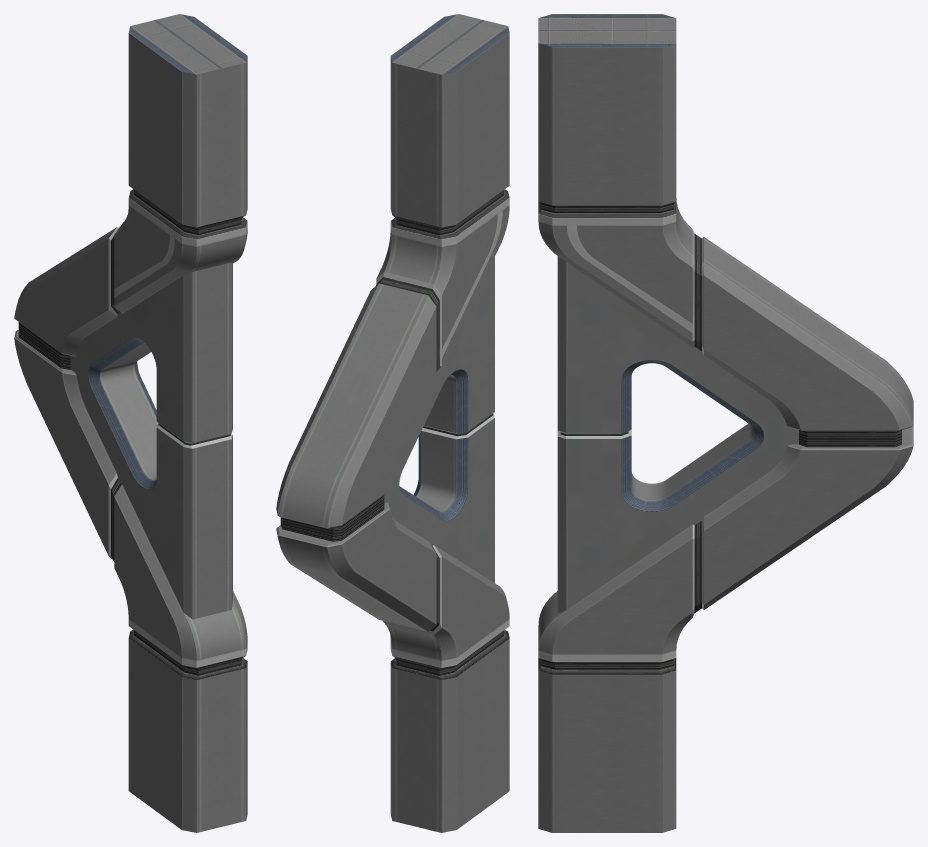
The model's file is Club_Pillar_01.FBX.
The picture shows the model from 3 angles, left to right: view 1: azimuth 30°, elevation 25°; view 2: azimuth 150°, elevation 25°; view 3: azimuth 270°, elevation 25°; orthographic projection. The views are drawn at different scales.
Parts seen in each view (by area): view 1: Club_Pillar_01; view 2: Club_Pillar_01; view 3: Club_Pillar_01.
Part boxes in pixels (left/top/right/bottom): Club_Pillar_01: left=14, top=14, right=247, bottom=832; Club_Pillar_01: left=276, top=14, right=509, bottom=832; Club_Pillar_01: left=538, top=14, right=913, bottom=832.
Size of the model in its own units: 4 by 44.01 by 19.04.
